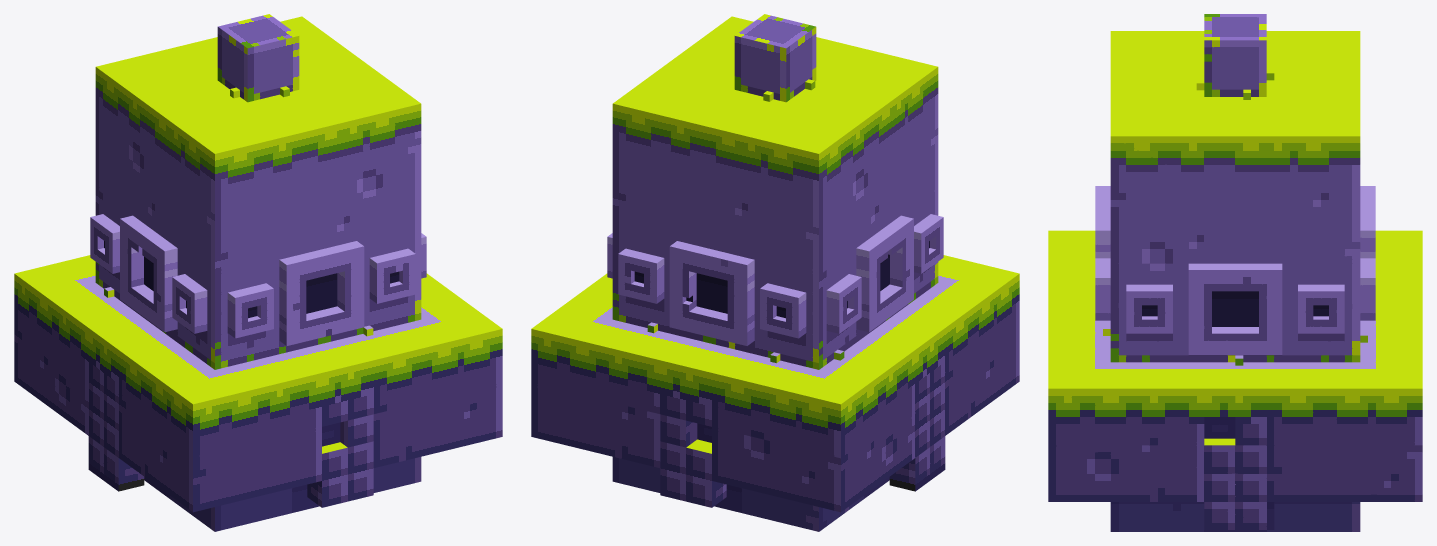
The model's file is water_statueao.fezao.glb.
The picture shows the model from 3 angles, left to right: view 1: azimuth 30°, elevation 25°; view 2: azimuth 150°, elevation 25°; view 3: azimuth 270°, elevation 25°; orthographic projection. The views are drawn at different scales.
Parts seen in each view (by area): view 1: WATER_STATUEAO; view 2: WATER_STATUEAO; view 3: WATER_STATUEAO.
Part boxes in pixels (<box>): WATER_STATUEAO: <box>14,14,502,531</box>; WATER_STATUEAO: <box>531,14,1019,531</box>; WATER_STATUEAO: <box>1048,14,1422,531</box>.
Bounding box in the file's own units: 3 × 4 × 3.
Materials: 1 (1 with a texture image).
